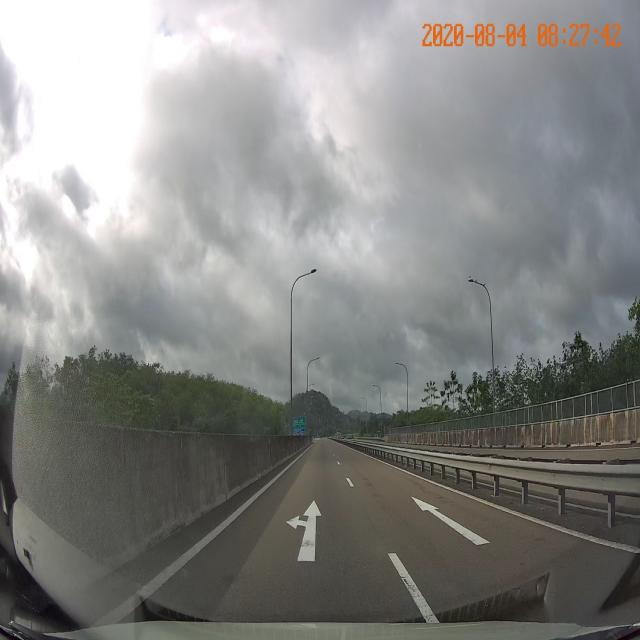forward_lft: (158, 482, 427, 599)
